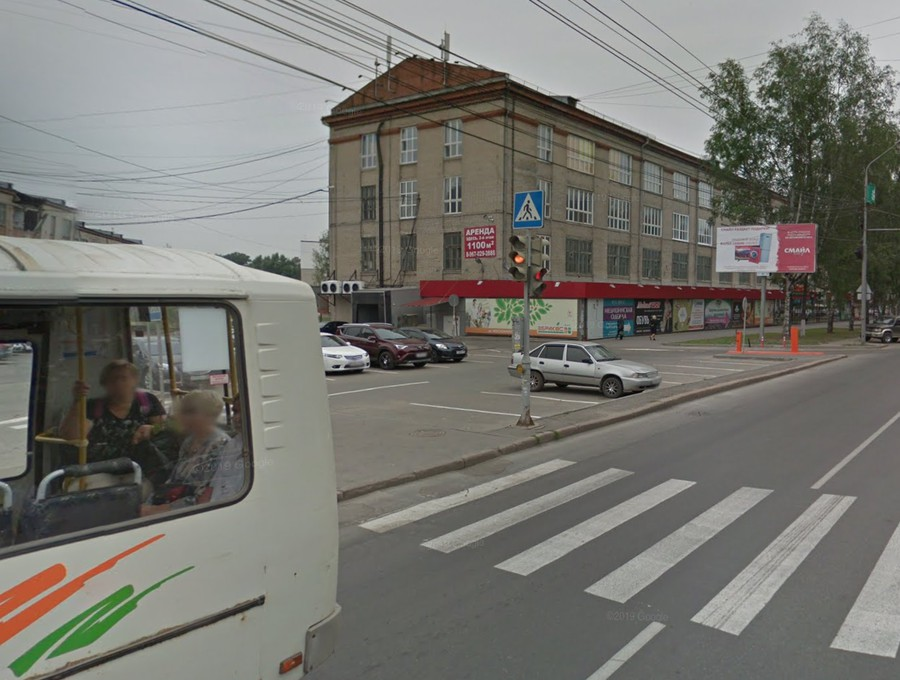Traffic Light-red: (531, 265, 550, 298)
